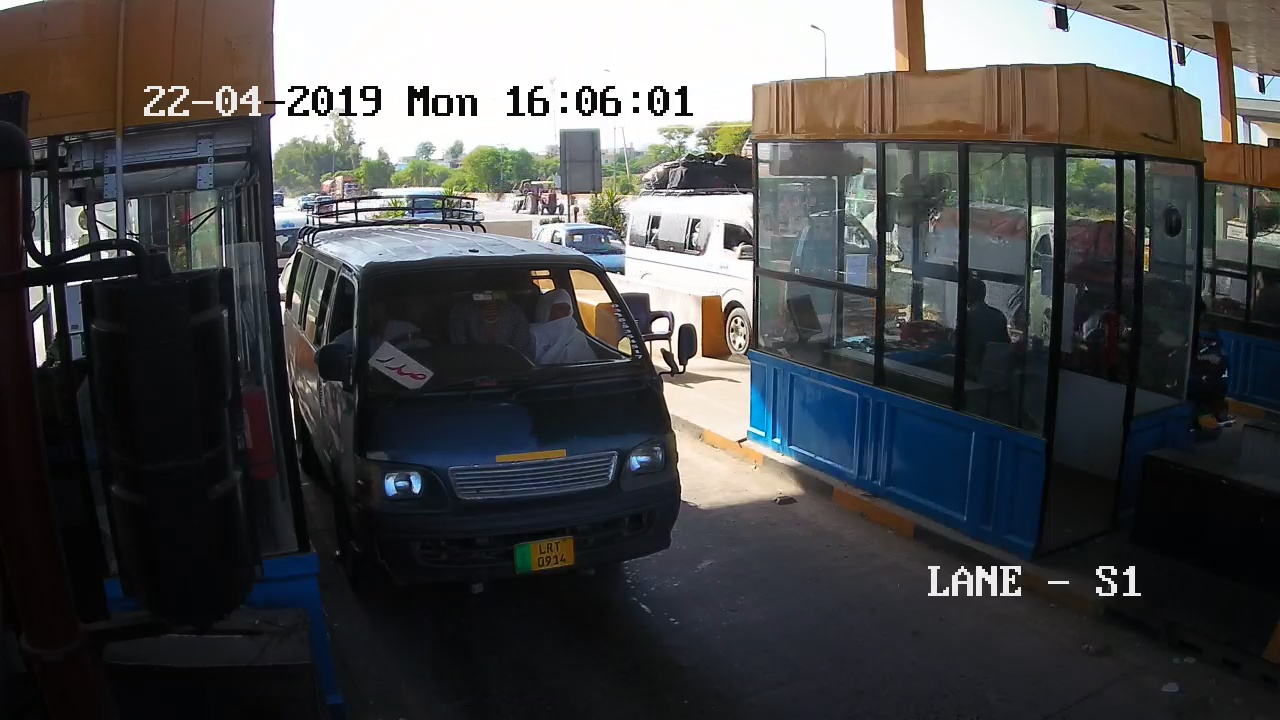Number Plate (Car): (514, 539, 573, 568)
